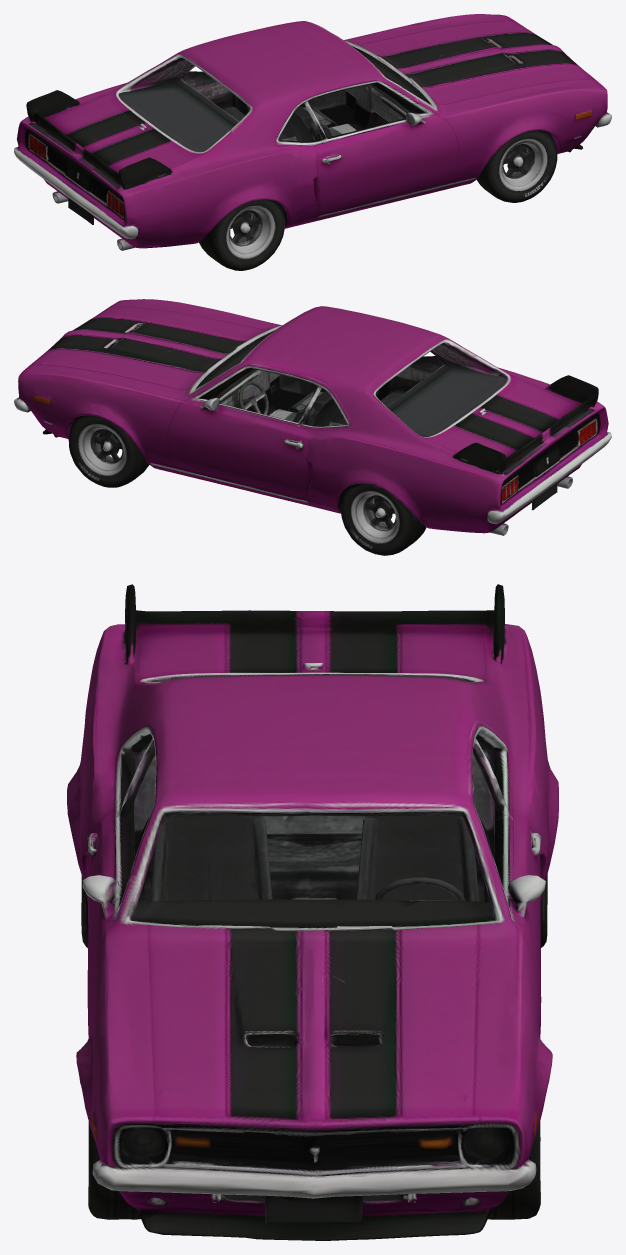
File: rival2.glb
3 views of the same model, one above another, from view 1: azimuth 30°, elevation 25°; view 2: azimuth 150°, elevation 25°; view 3: azimuth 270°, elevation 25° (orthographic). The views are drawn at different scales.
Visible parts, largest first — view 1: tripo_node_92202f4b-9e2a-40cc-8abf-446a25ae479f; view 2: tripo_node_92202f4b-9e2a-40cc-8abf-446a25ae479f; view 3: tripo_node_92202f4b-9e2a-40cc-8abf-446a25ae479f.
Part boxes in pixels (<box>): tripo_node_92202f4b-9e2a-40cc-8abf-446a25ae479f: <box>14,14,611,270</box>; tripo_node_92202f4b-9e2a-40cc-8abf-446a25ae479f: <box>14,299,611,555</box>; tripo_node_92202f4b-9e2a-40cc-8abf-446a25ae479f: <box>67,584,558,1240</box>.
Bounding box in the file's own units: 1 × 0.2905 × 0.4252.
Materials: 1 (1 with a texture image).
